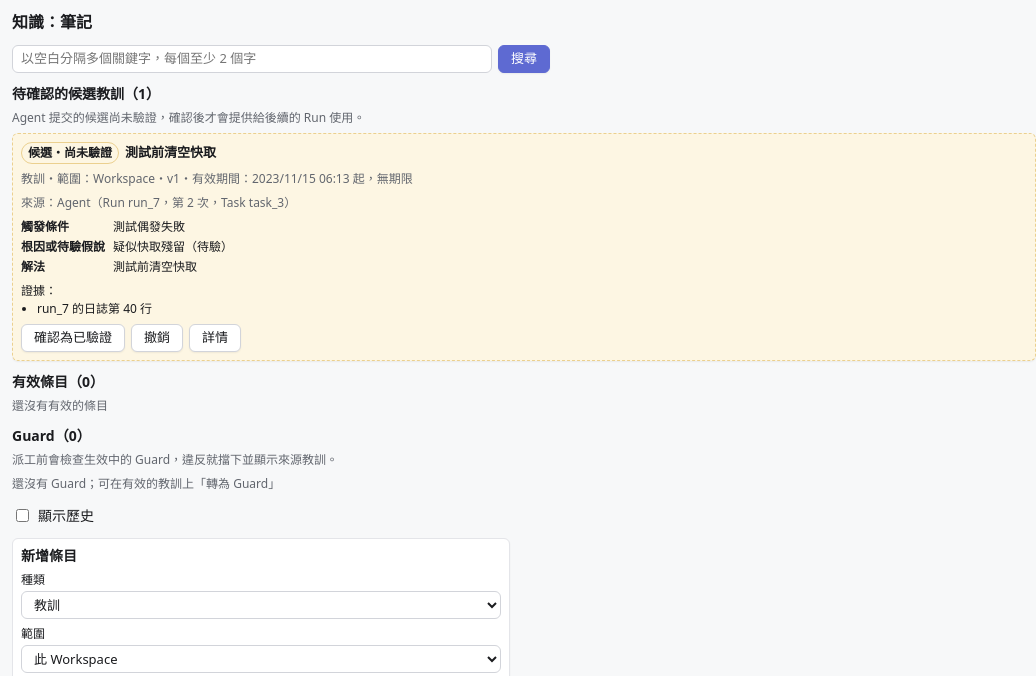
Test case: 知識 › 待確認的候選教訓 › 撤銷必須填寫原因，沒填時不送出
Step 1. Click the button "撤銷" → coordinates (157, 338), box [131, 324, 183, 352]
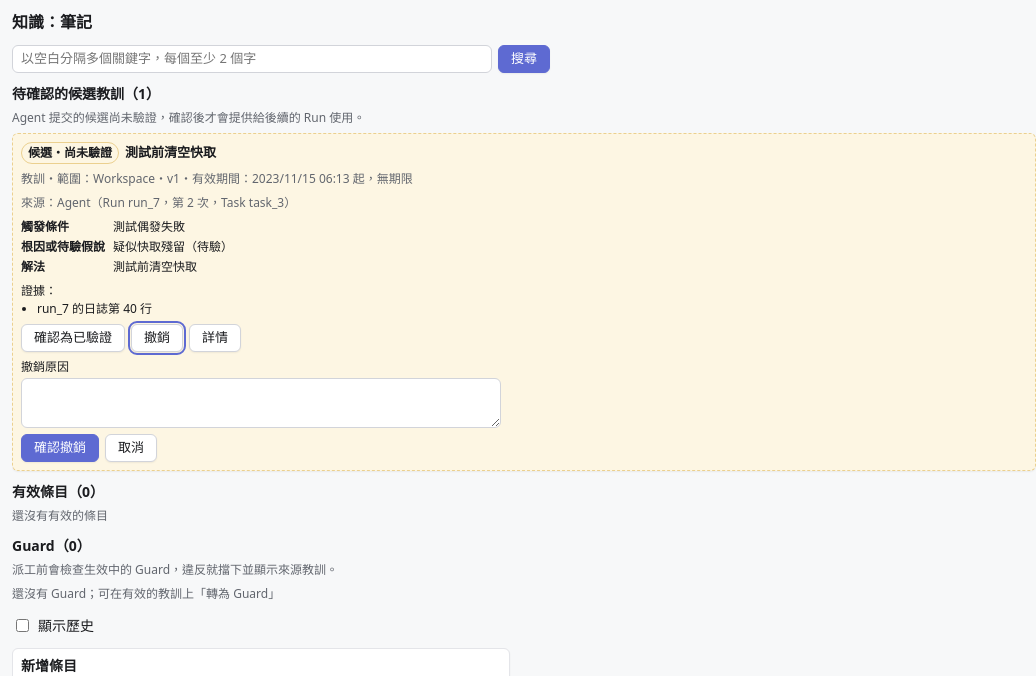
Step 2. Click the button "確認撤銷" → coordinates (60, 448), box [21, 434, 99, 462]
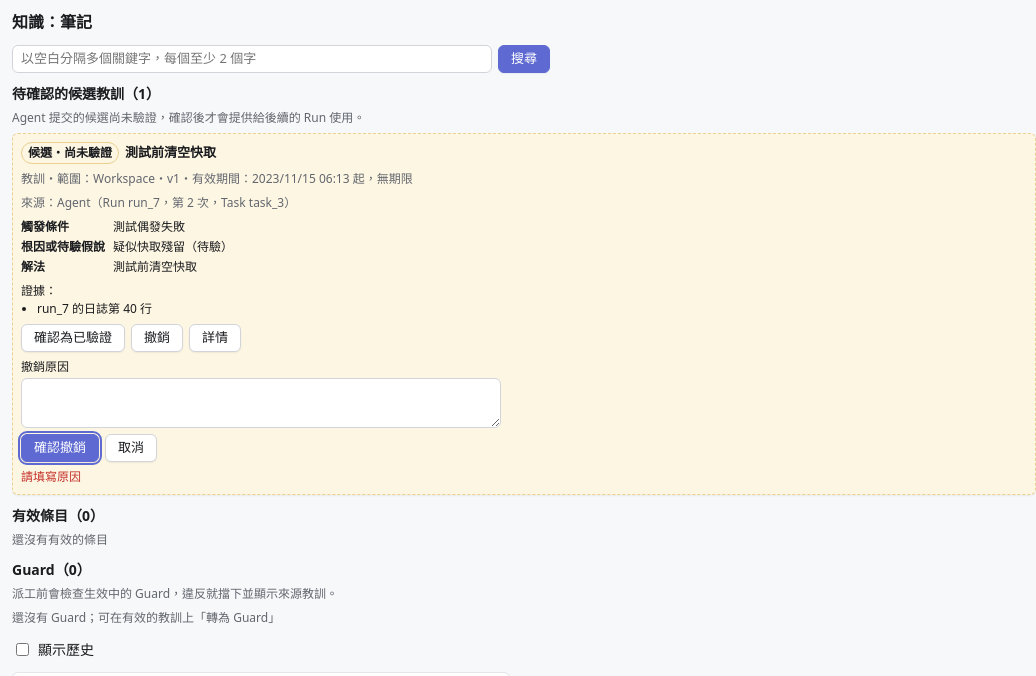
Expected: the message reads "請填寫原因", [21, 468, 81, 485]
Step 3. Type "假說不成立" into the text box labelled "撤銷原因" → coordinates (261, 403), box [21, 378, 501, 428]
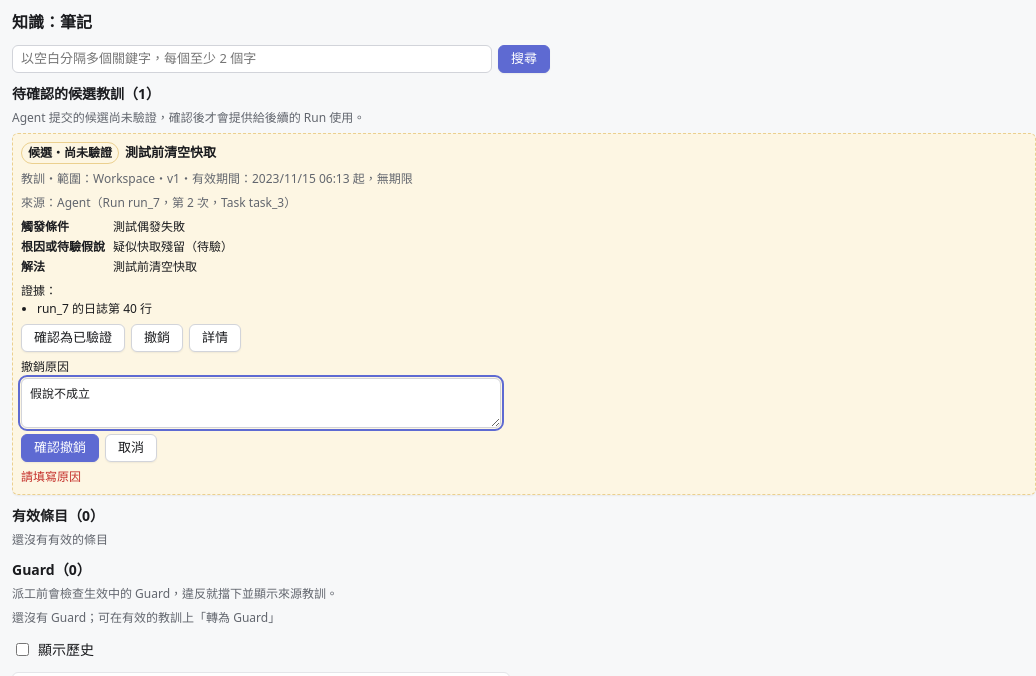
Step 4. Click the button "確認撤銷" → coordinates (60, 448), box [21, 434, 99, 462]
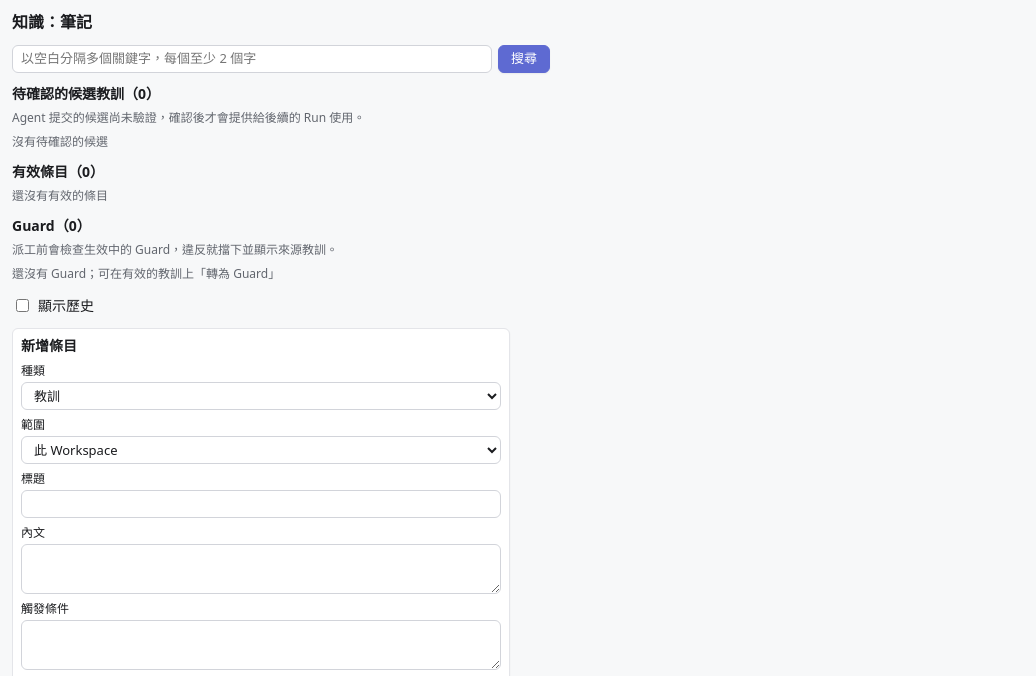
Expected: the heading "測試前清空快取" is gone
